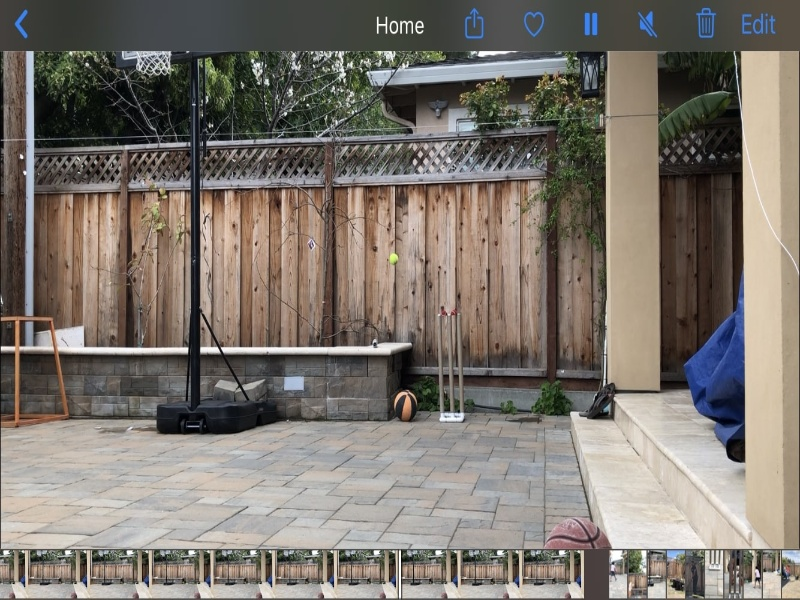tennis ball: (387, 252, 400, 266)
